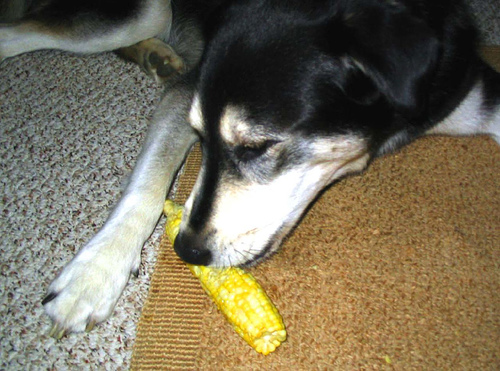corn: (158, 196, 288, 356)
